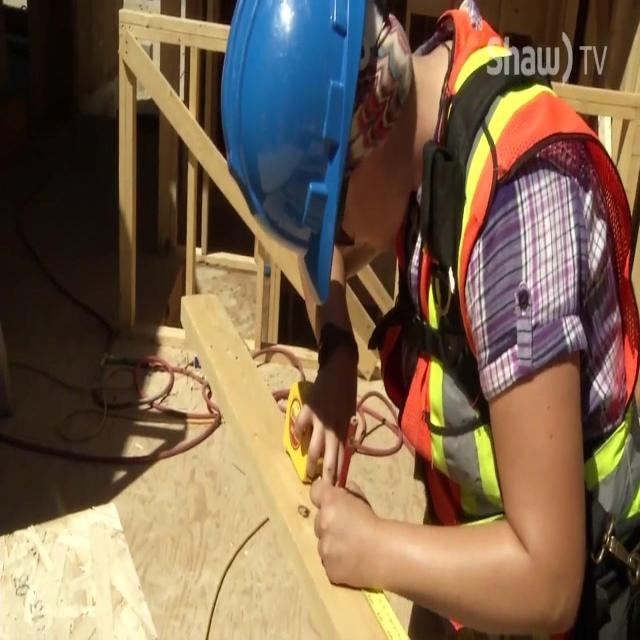Vest: (374, 1, 640, 630)
